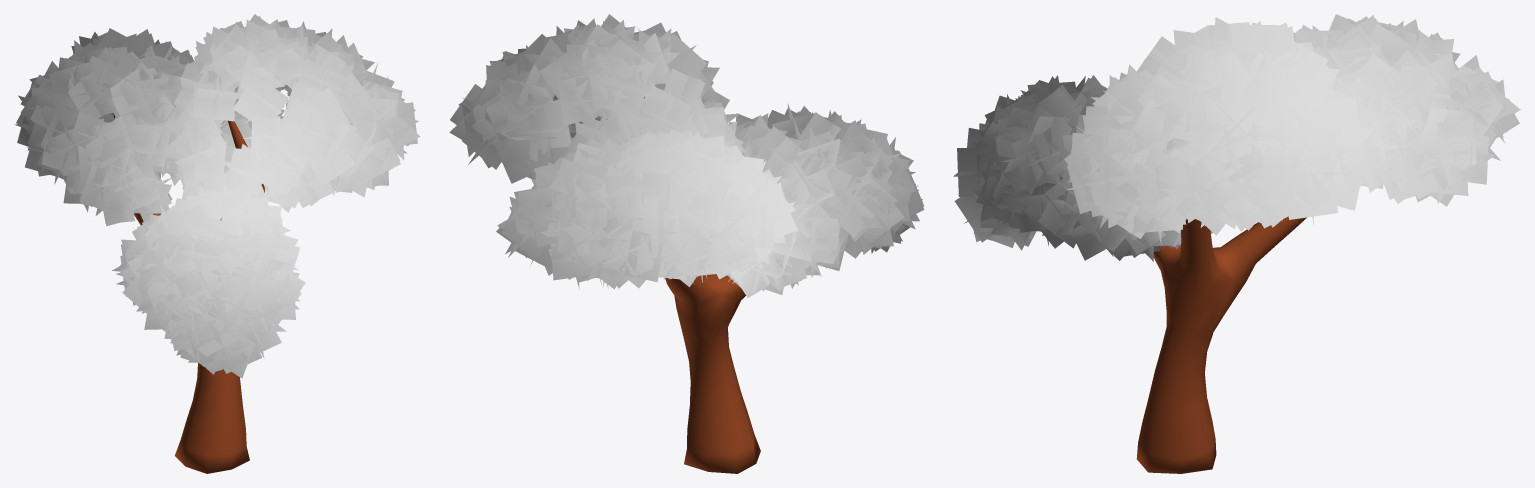
The model's file is Tree_Mesh.fbx.
3 renders of one model, left to right at view 1: azimuth 30°, elevation 25°; view 2: azimuth 150°, elevation 25°; view 3: azimuth 270°, elevation 25°, orthographic. The views are drawn at different scales.
Parts seen in each view (by area): view 1: Leaves, Trunk; view 2: Leaves, Trunk; view 3: Leaves, Trunk.
Boxes of the visible parts, x1,y1,x2,y2 form: Leaves: [14, 14, 420, 378]; Trunk: [113, 113, 264, 473]; Leaves: [449, 14, 924, 297]; Trunk: [665, 274, 760, 473]; Leaves: [953, 14, 1520, 261]; Trunk: [1136, 216, 1306, 473].
Size of the model in its own units: 445 by 521 by 569.
